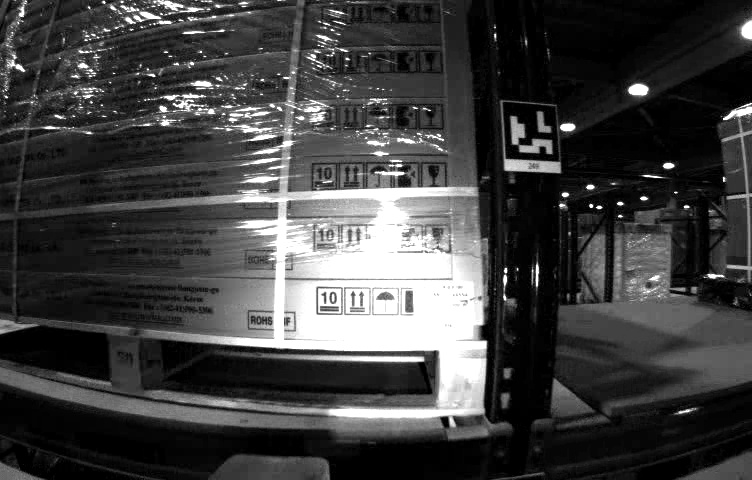True Barcode: (419, 280, 475, 338)
